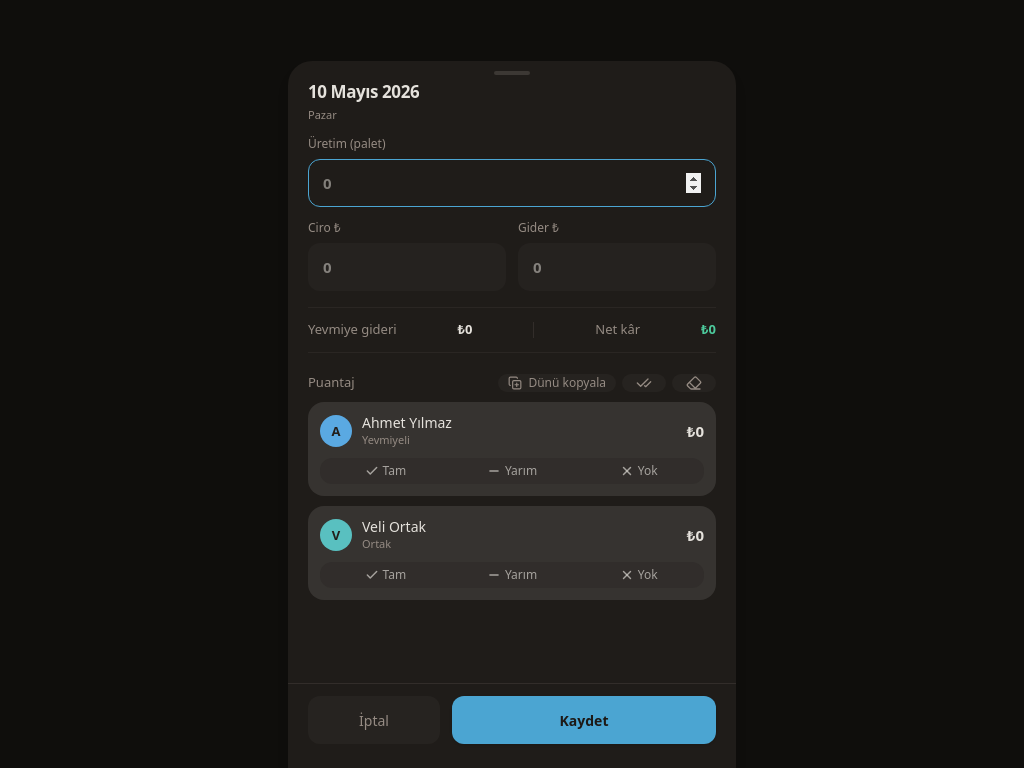
Test: DayDetailSheet › zarar gününde zararı ayrı satırda gösterir
The width and height of the screenshot is (1024, 768).
Click the button with aria-label "Ahmet Yılmaz: Tam" at (385, 472), box [324,462,447,480]
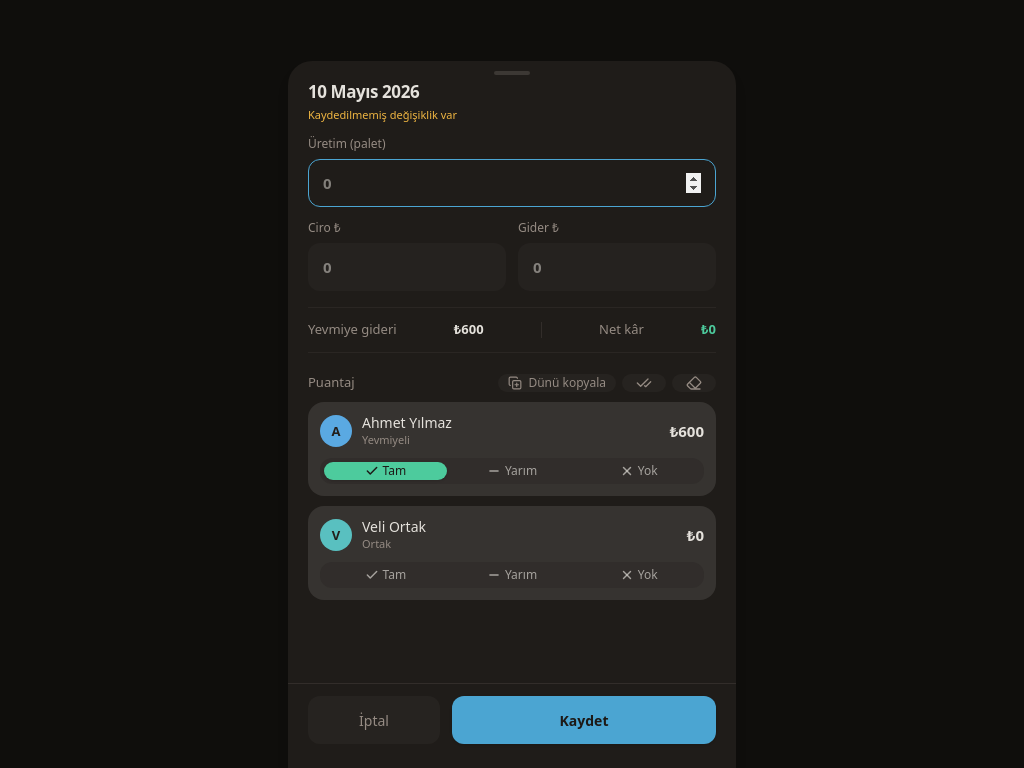
Click the button with aria-label "Veli Ortak: Tam" at (385, 576), box [324,566,447,584]
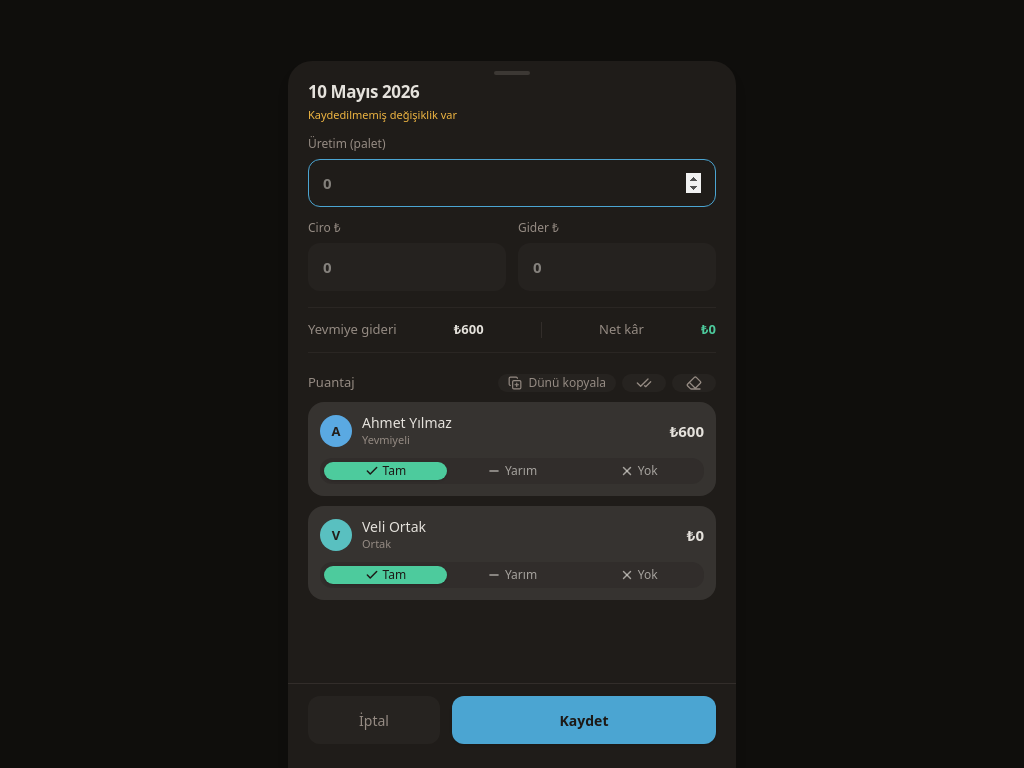
Type "5000" into the number field labelled "Ciro ₺" at (407, 268), box [308,244,506,292]
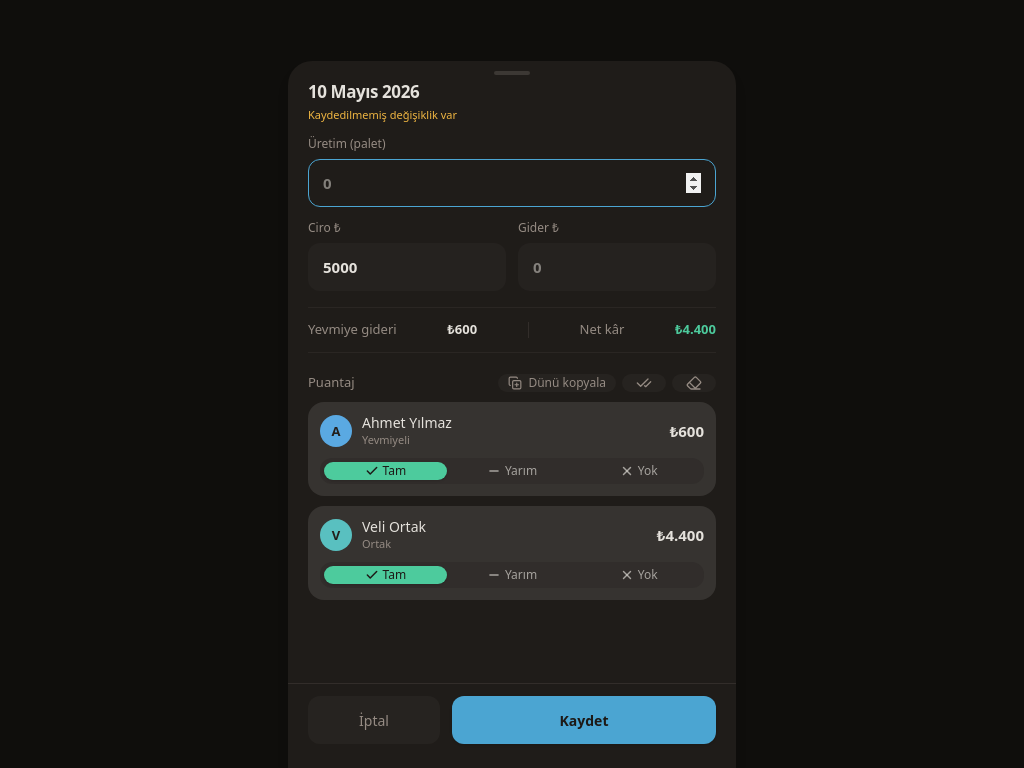
Check: the text "ortak payı dağıtılmadı" is not shown
Type "9000" into the number field labelled "Gider ₺" at (617, 268), box [518,244,716,292]
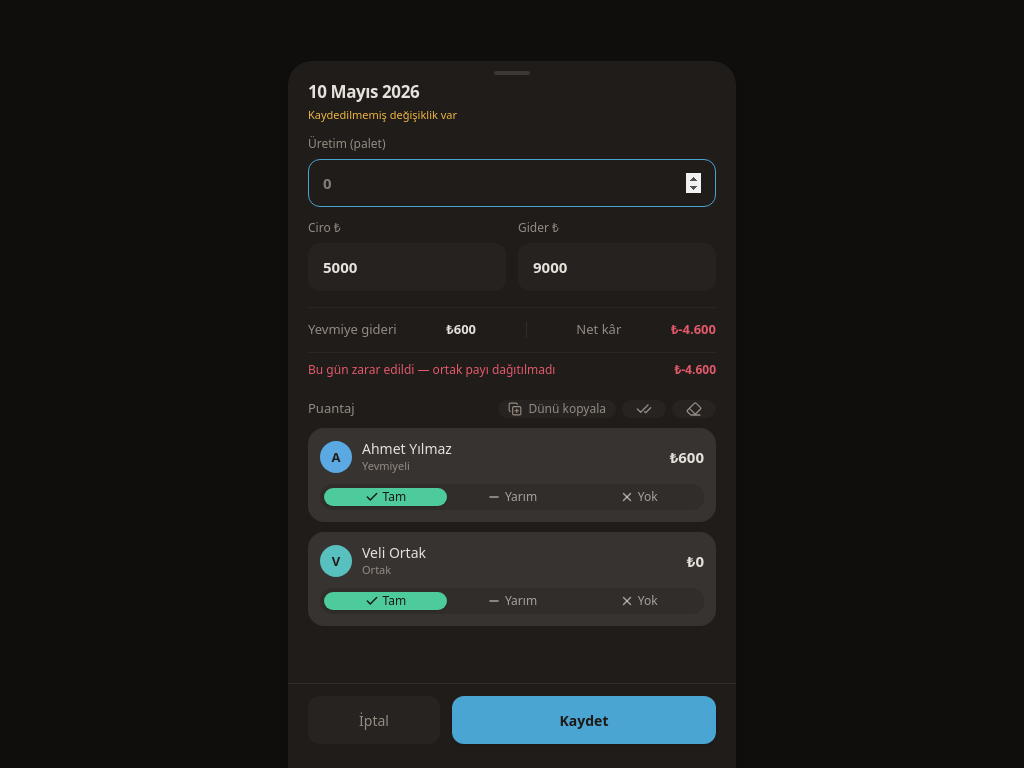
Check: the text "Bu gün zarar edildi — ortak payı dağıtılmadı" is shown, box [308,361,555,379]
